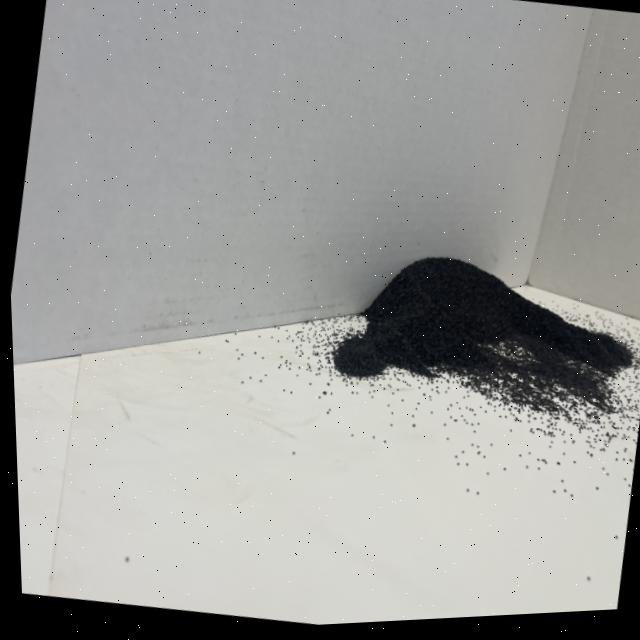Poppy Seeds: (330, 236, 614, 448)
